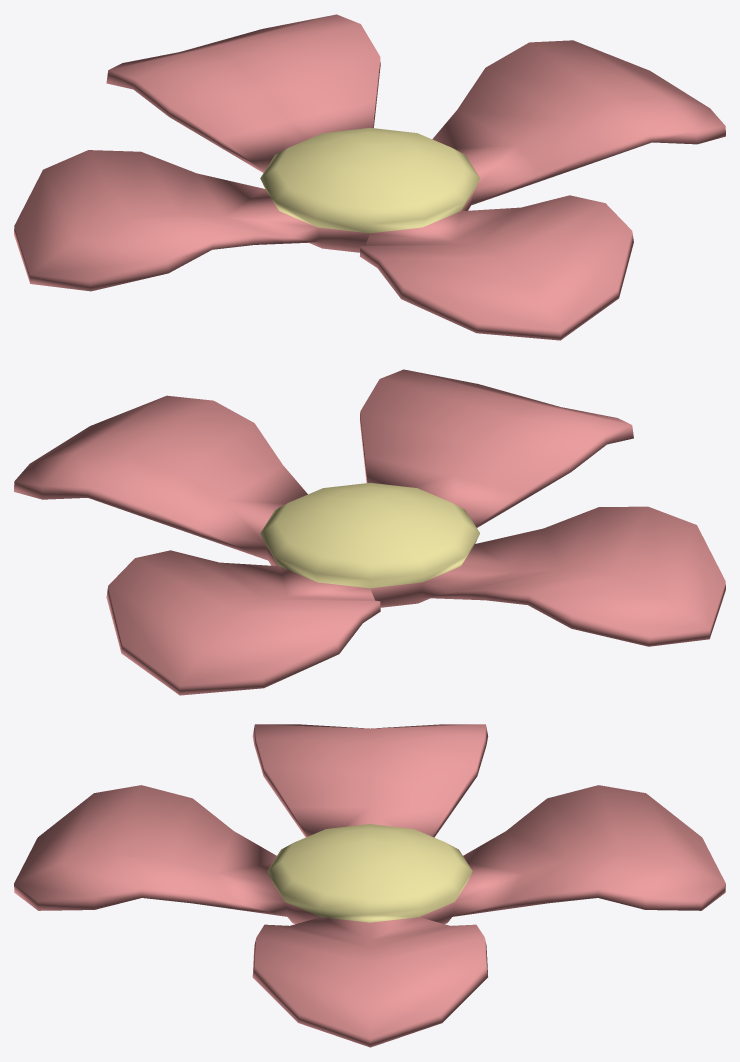
The model's file is FlowersModel01_GillianYu.fbx.
3 views of the same model, one above another, from view 1: azimuth 30°, elevation 25°; view 2: azimuth 150°, elevation 25°; view 3: azimuth 270°, elevation 25° (orthographic). The views are drawn at different scales.
Visible parts, largest first — view 1: flower; view 2: flower; view 3: flower.
Boxes of the visible parts, x1,y1,x2,y2 form: flower: (14,14,725,340); flower: (14,369,725,695); flower: (14,724,725,1047).
Size of the model in its own units: 18.52 by 1.91 by 17.97.
